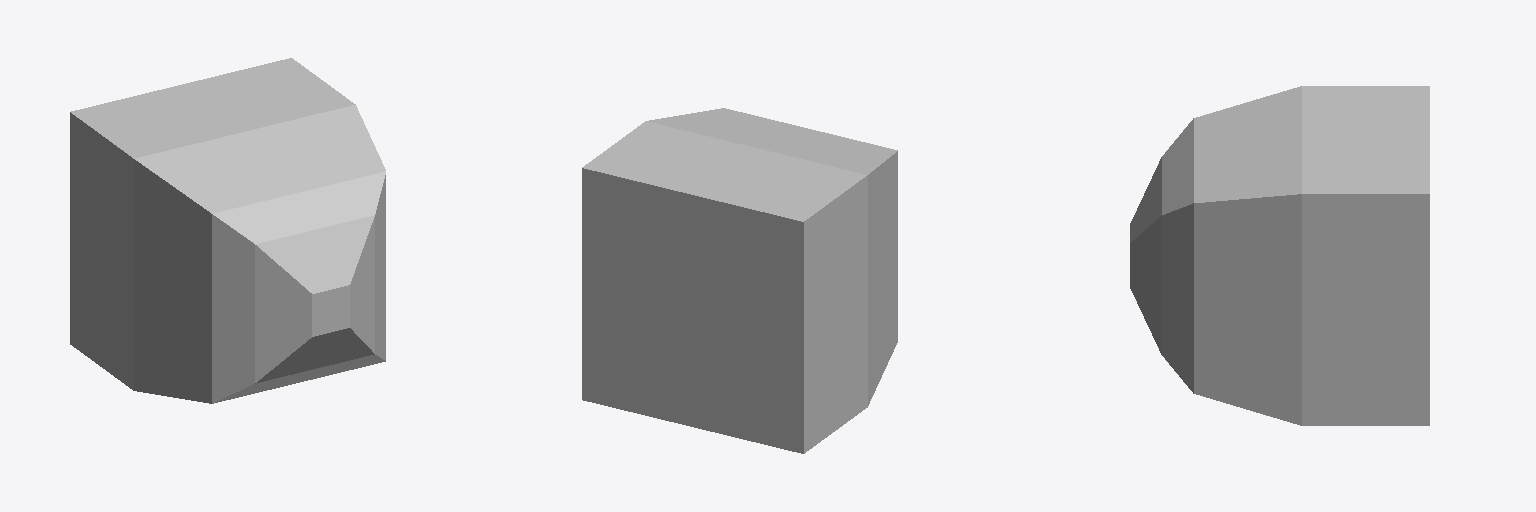
File: bullet.obj
3 views of the same model, side by side, from view 1: azimuth 30°, elevation 25°; view 2: azimuth 150°, elevation 25°; view 3: azimuth 270°, elevation 25° (orthographic).
Visible parts, largest first — view 1: Cube; view 2: Cube; view 3: Cube.
Part boxes in pixels (left/top/right/bottom): Cube: left=70, top=58, right=385, bottom=403; Cube: left=582, top=108, right=897, bottom=453; Cube: left=1130, top=86, right=1429, bottom=425.
Bounding box in the file's own units: 2 × 2 × 2.35.